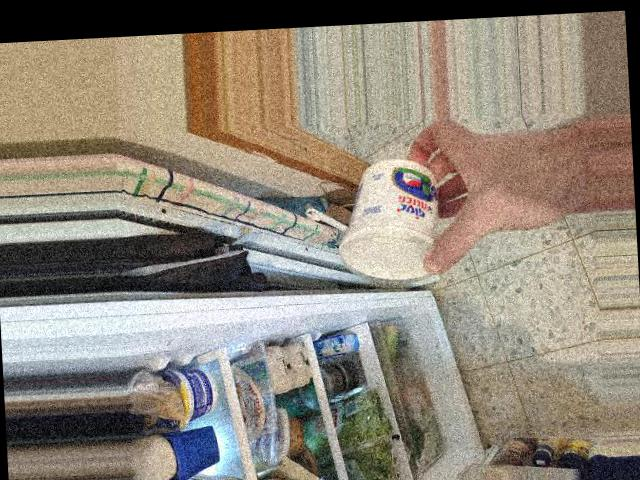cotage: (337, 151, 453, 280)
